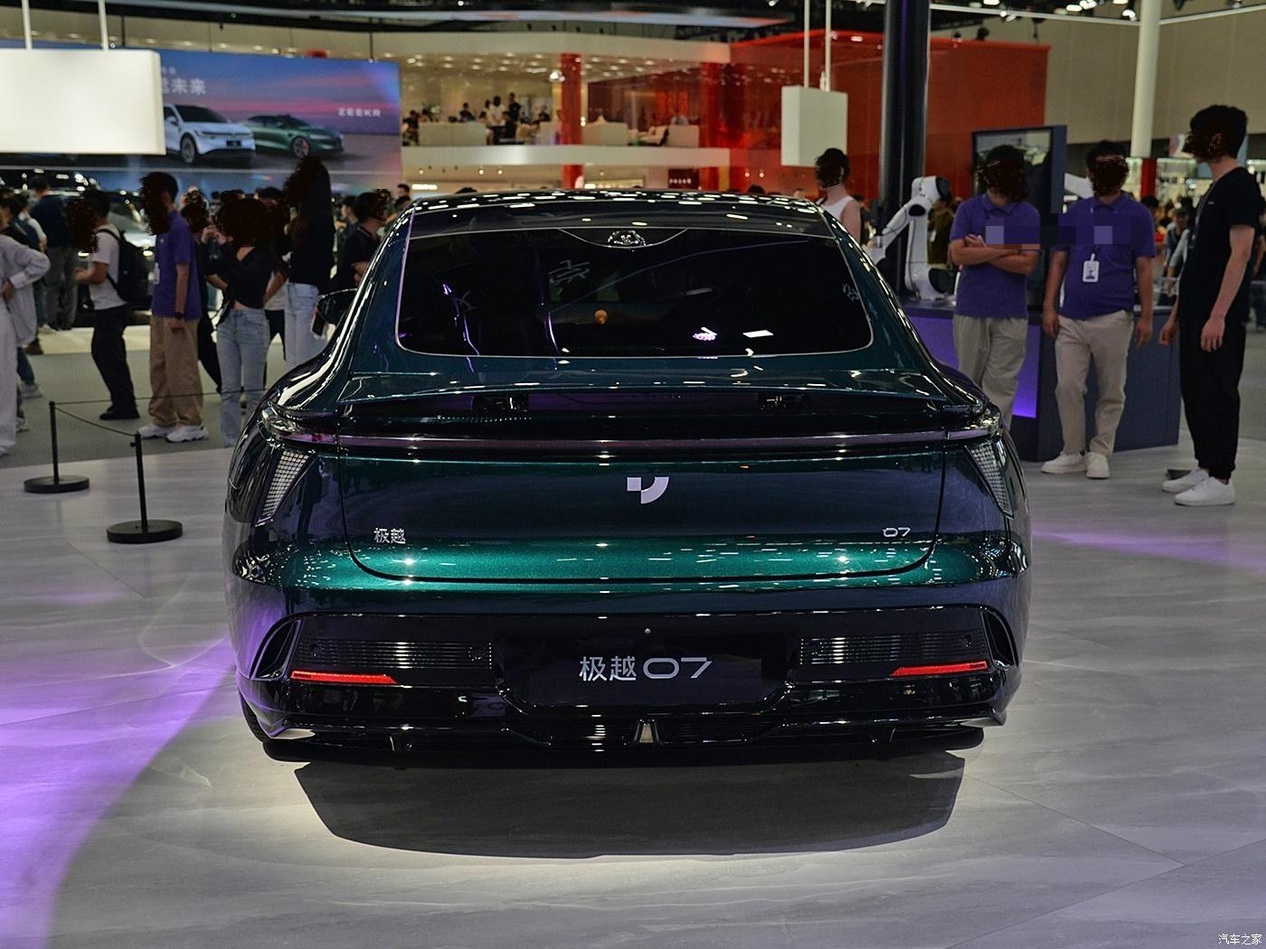JIYUE: (626, 475, 670, 504)
